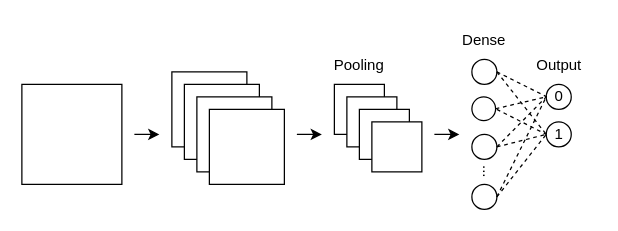
This 618x231 diagram has some shape labels left out. The centre of each missing label's shape, as x and y in pixels:
Conv: the point at 246,146
Input 150x150: the point at 71,133
